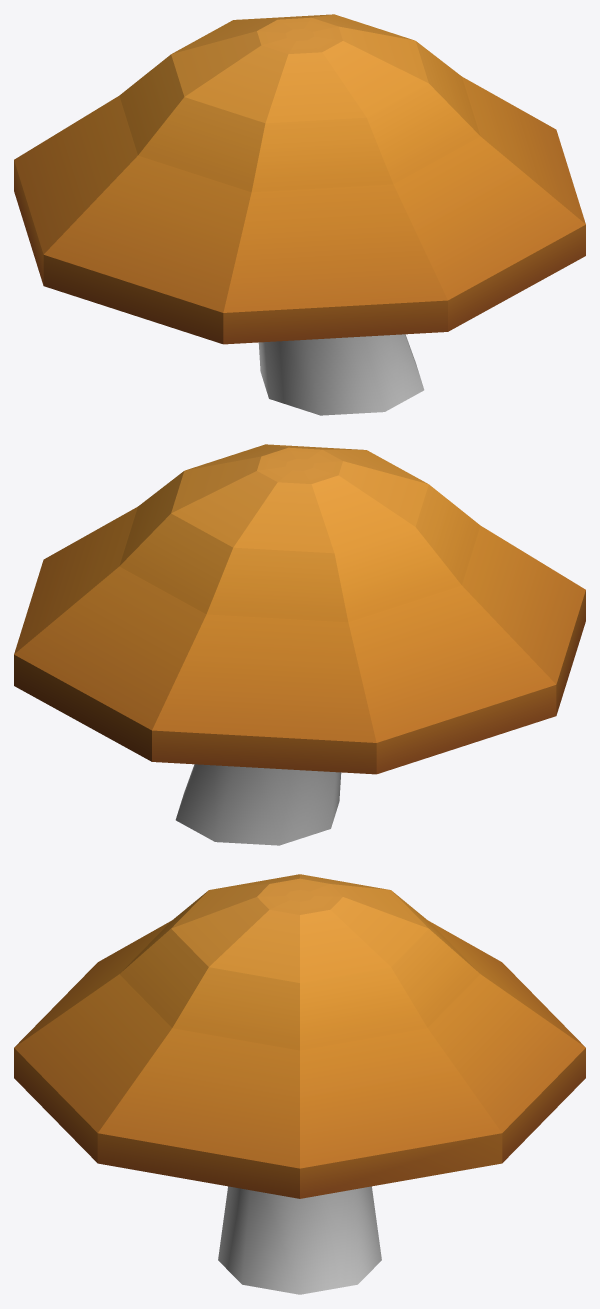
File: MushroomMediumOrange.FBX
The picture shows the model from 3 angles, top to bottom: view 1: azimuth 30°, elevation 25°; view 2: azimuth 150°, elevation 25°; view 3: azimuth 270°, elevation 25°; orthographic projection. The views are drawn at different scales.
Parts seen in each view (by area): view 1: Cylinder057; view 2: Cylinder057; view 3: Cylinder057.
Boxes of the visible parts, box(x1,y1,x2,y2) form: Cylinder057: box(14, 14, 585, 415); Cylinder057: box(14, 444, 585, 845); Cylinder057: box(14, 874, 585, 1294).
Bounding box in the file's own units: 24.66 × 16.38 × 24.66.
